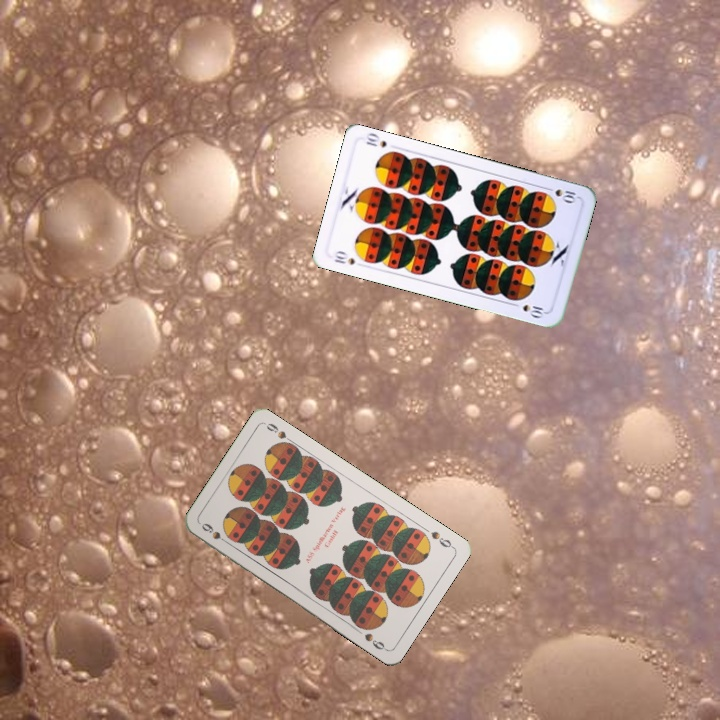S10: (541, 183, 581, 206), (330, 247, 357, 267)
S9: (198, 519, 233, 547), (427, 527, 456, 551)
